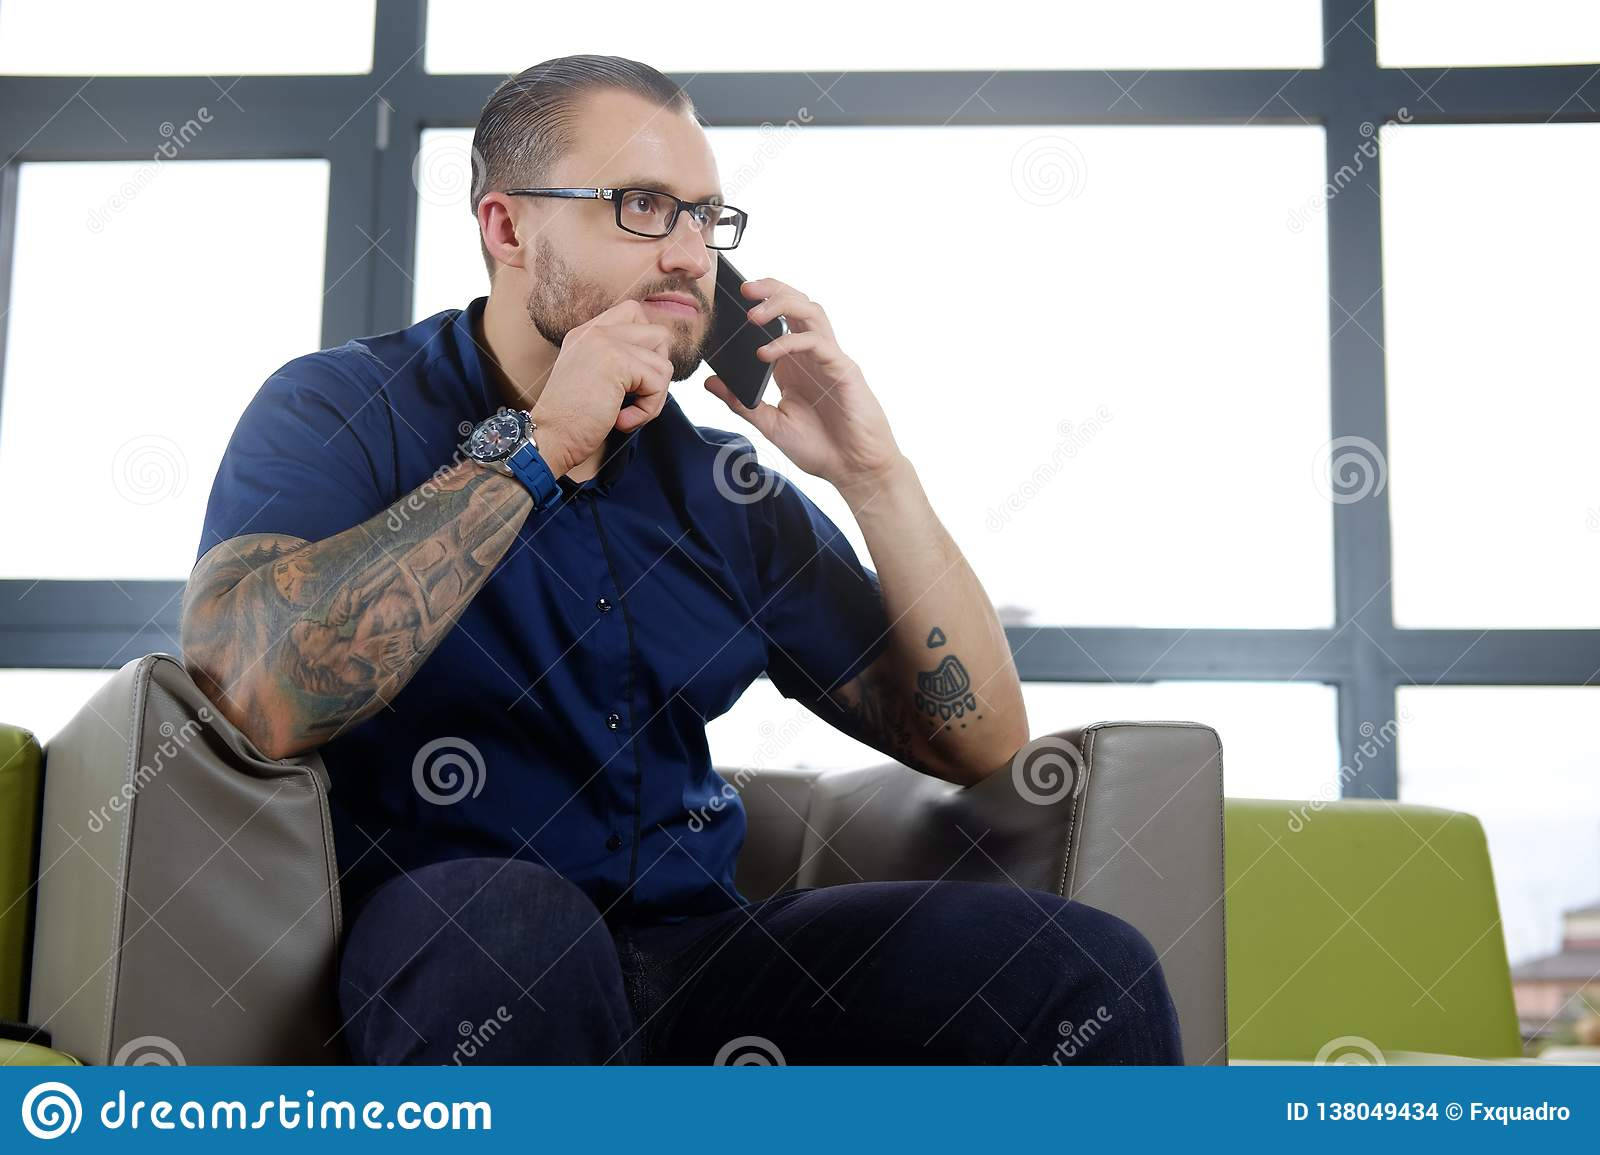phone: (701, 255, 798, 419)
talk: (607, 163, 889, 502)
